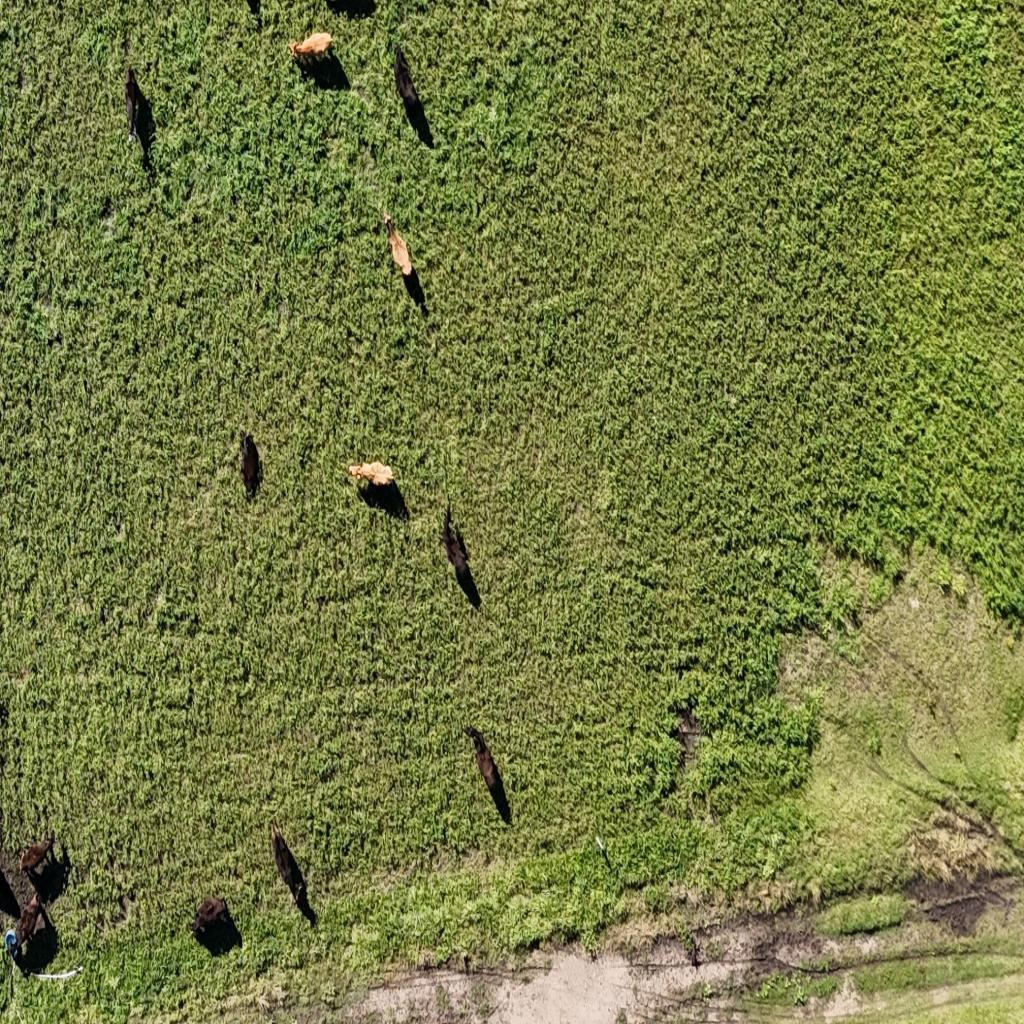cow: (466, 725, 508, 825), (440, 502, 478, 604), (270, 821, 308, 911), (393, 45, 425, 138), (384, 206, 417, 287), (188, 896, 236, 948), (14, 891, 48, 953), (289, 31, 335, 73), (18, 830, 56, 880), (349, 460, 397, 496), (239, 430, 260, 498), (125, 68, 141, 146)
